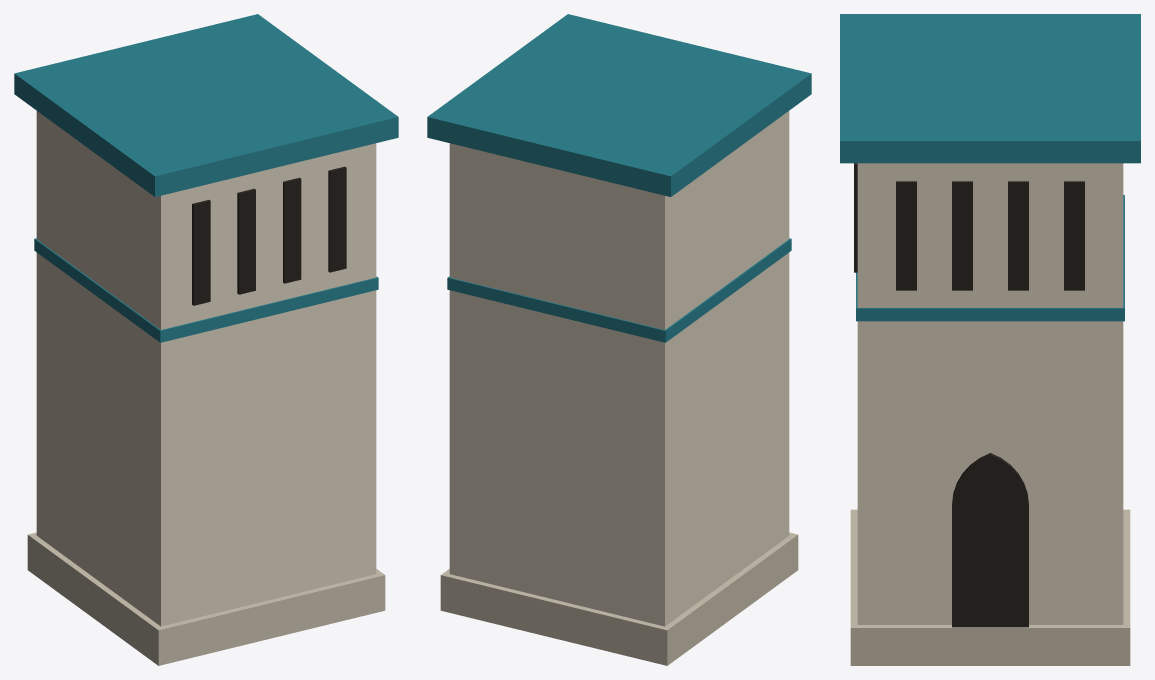
The model's file is asbad.glb.
The picture shows the model from 3 angles, left to right: view 1: azimuth 30°, elevation 25°; view 2: azimuth 150°, elevation 25°; view 3: azimuth 270°, elevation 25°; orthographic projection. The views are drawn at different scales.
Visible parts, largest first — view 1: asbad; view 2: asbad; view 3: asbad.
Boxes of the visible parts, <box> form: asbad: <box>14,14,398,665</box>; asbad: <box>427,14,811,665</box>; asbad: <box>840,14,1140,665</box>.
Bounding box in the file's own units: 0.86 × 1.67 × 0.86.
